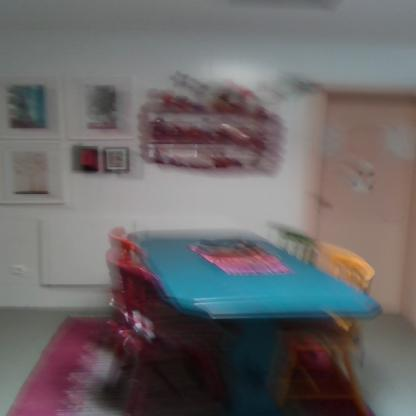door: (314, 93, 408, 315)
lever: (320, 200, 338, 211)
